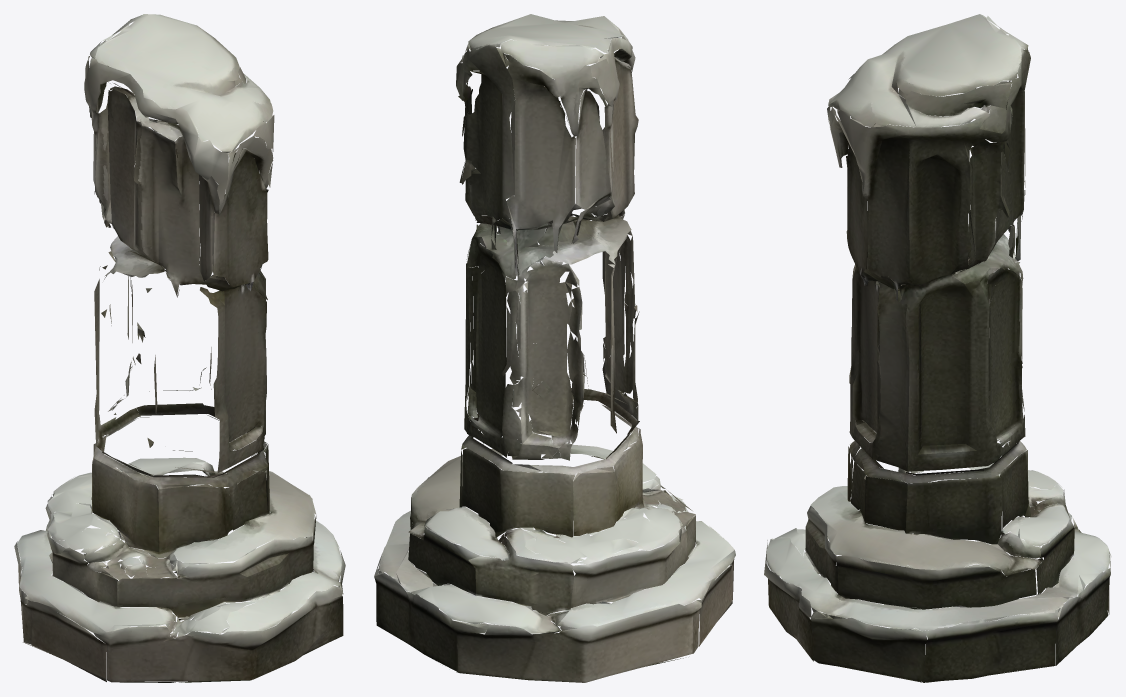
The model's file is snowPillar.glb.
3 views of the same model, side by side, from view 1: azimuth 30°, elevation 25°; view 2: azimuth 150°, elevation 25°; view 3: azimuth 270°, elevation 25° (orthographic). The views are drawn at different scales.
Parts seen in each view (by area): view 1: Prop_snowPillar; view 2: Prop_snowPillar; view 3: Prop_snowPillar.
Part boxes in pixels (<box>): Prop_snowPillar: <box>14,14,345,682</box>; Prop_snowPillar: <box>374,14,735,682</box>; Prop_snowPillar: <box>764,14,1111,682</box>.
Bounding box in the file's own units: 1.4 × 2.6 × 1.42.
Materials: 1 (1 with a texture image).
